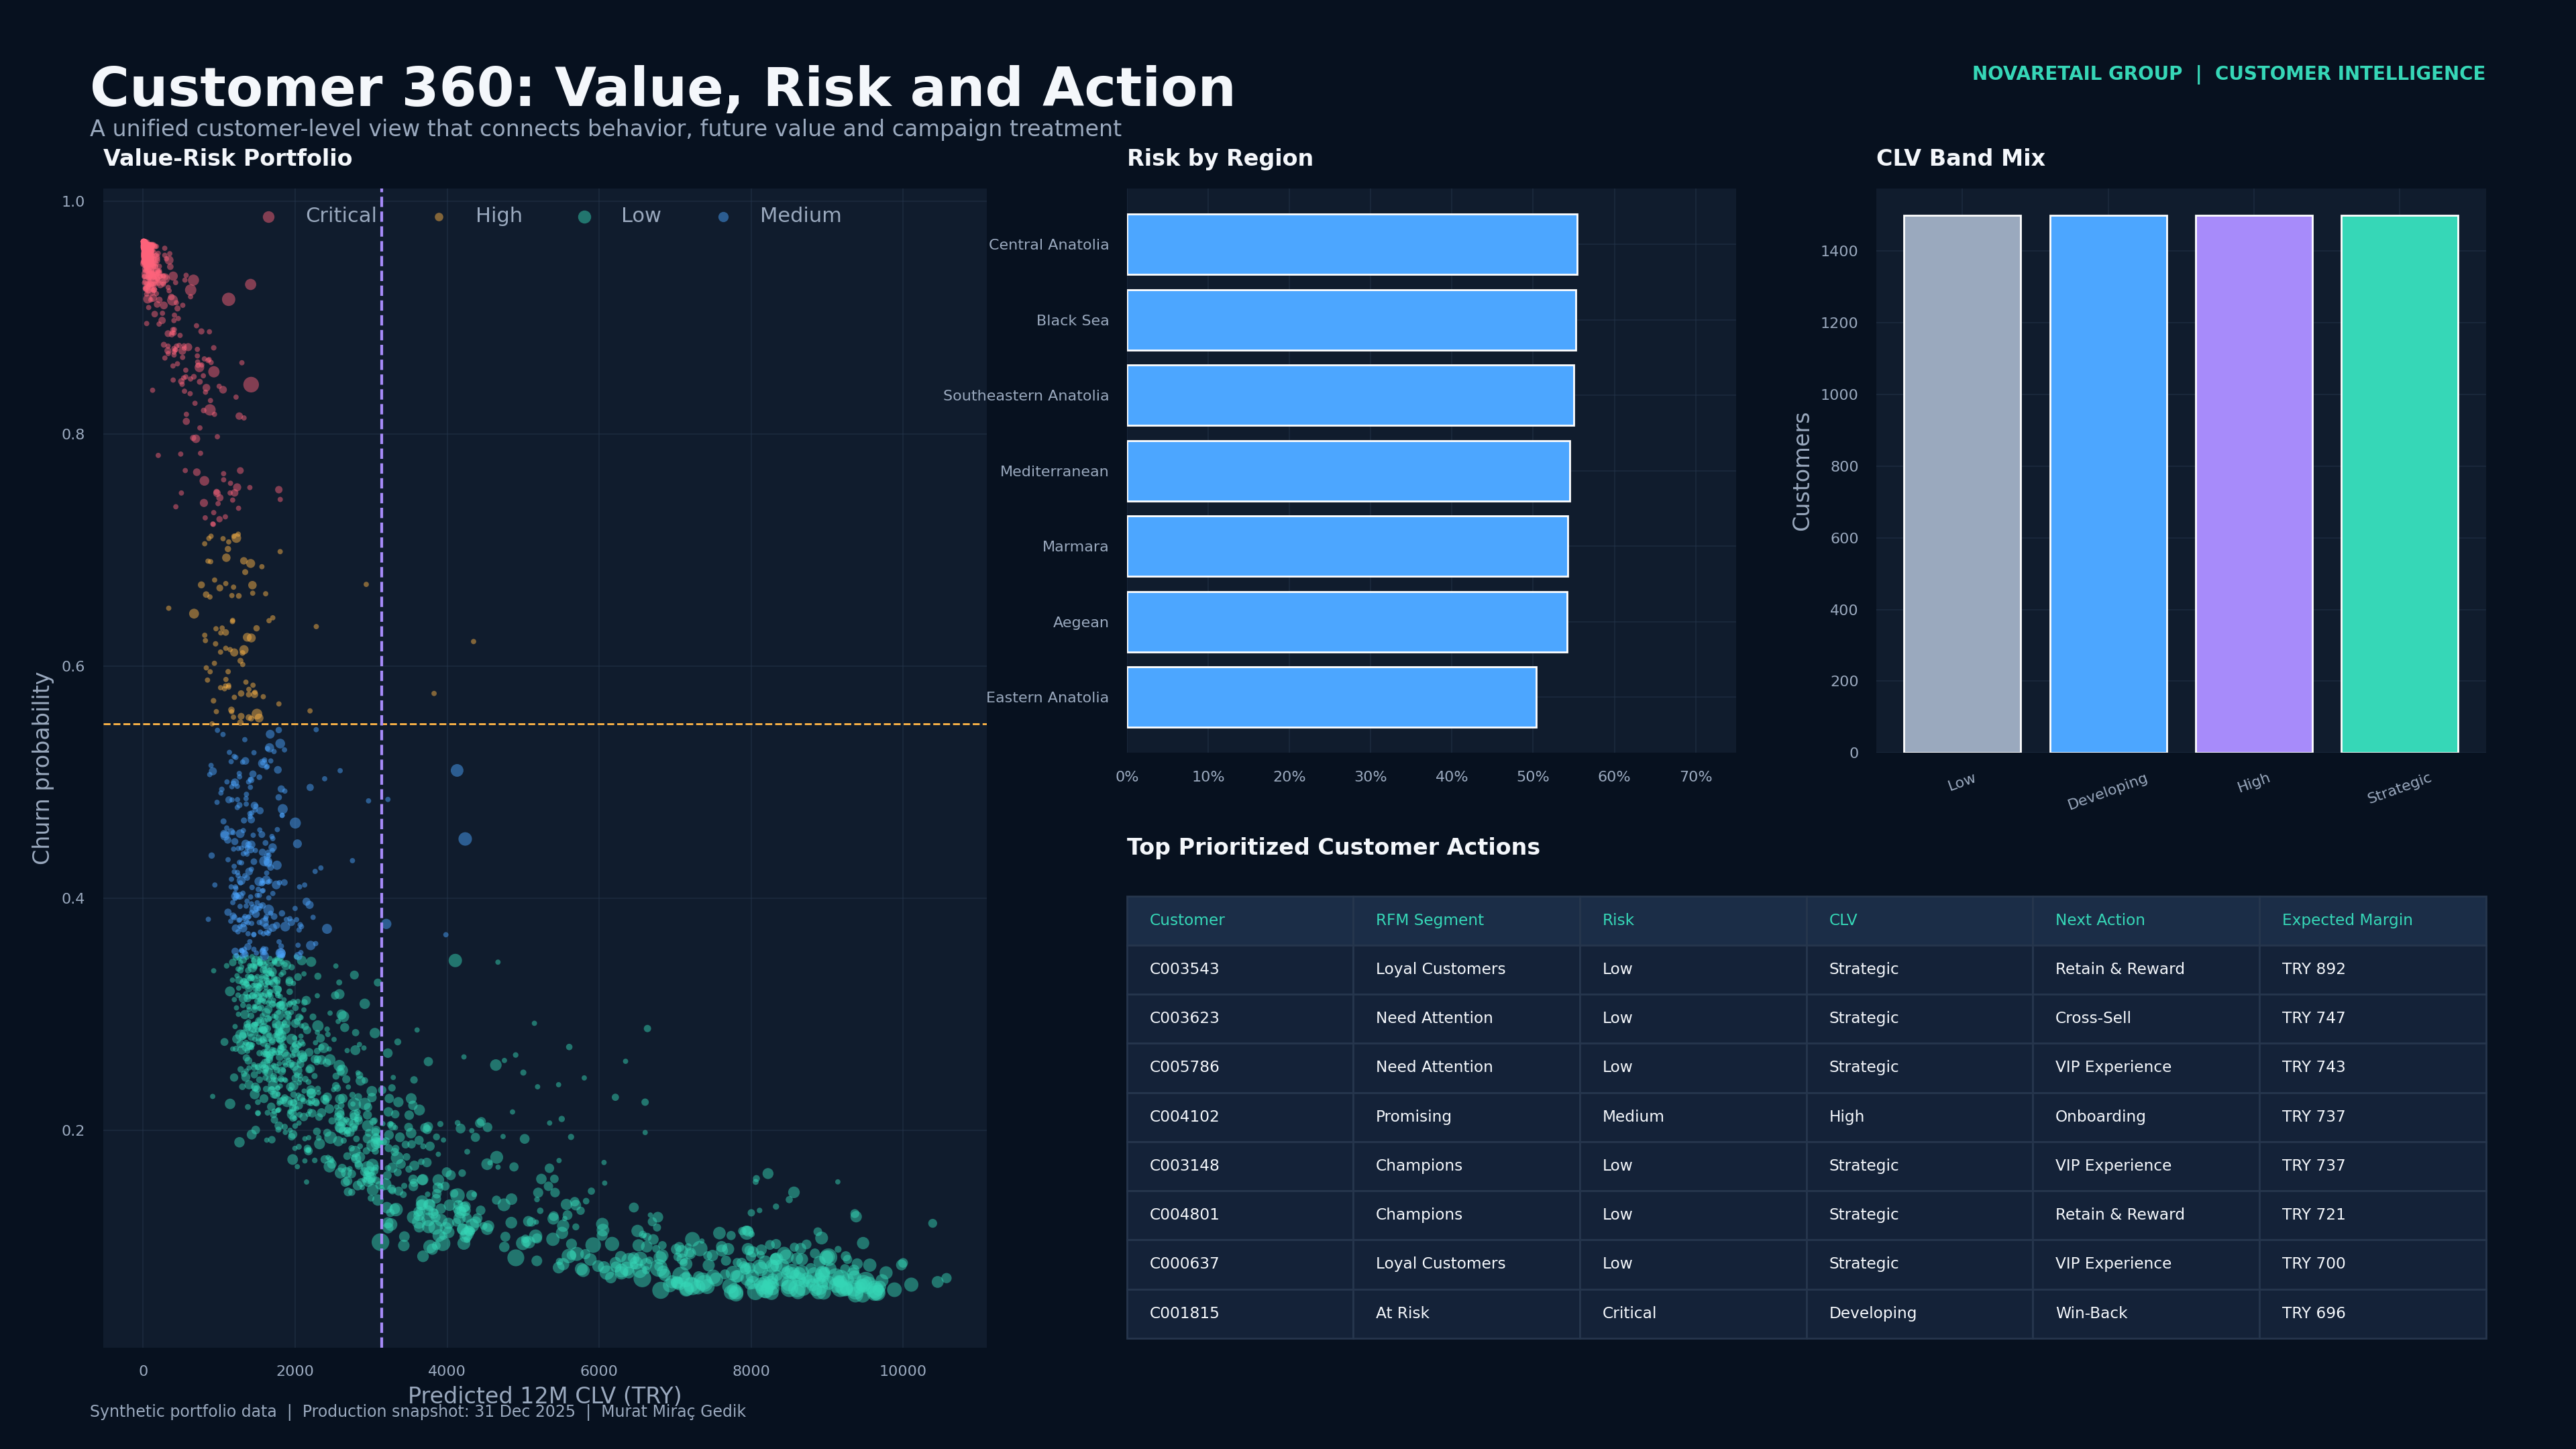

What the dashboard file says about the page in this screenshot:
{"tool":"tableau","page":{"name":"Customer Intelligence - Segmentation & CLV","canvas":[1000,1000],"units":"permille","ordinal":1},"visuals":[{"type":"worksheet","title":"CLV by RFM Segment","box":[0,0,333.3,1000]},{"type":"worksheet","title":"Regional Risk Analysis","box":[333.3,0,333.3,1000]},{"type":"worksheet","title":"Customer Detail","box":[666.7,0,333.3,1000]}]}

Visuals, with their boxes on the dashboard's canvas, which has no fixed pixel size, in thousandths of its width and height (x1, y1, x2, y2). These are canvas units, not pixel positions in the 2576x1449 screenshot, which may show the page scaled, cropped or inside an application window:
"CLV by RFM Segment" worksheet: (0, 0, 333, 1000)
"Regional Risk Analysis" worksheet: (333, 0, 667, 1000)
"Customer Detail" worksheet: (667, 0, 1000, 1000)
